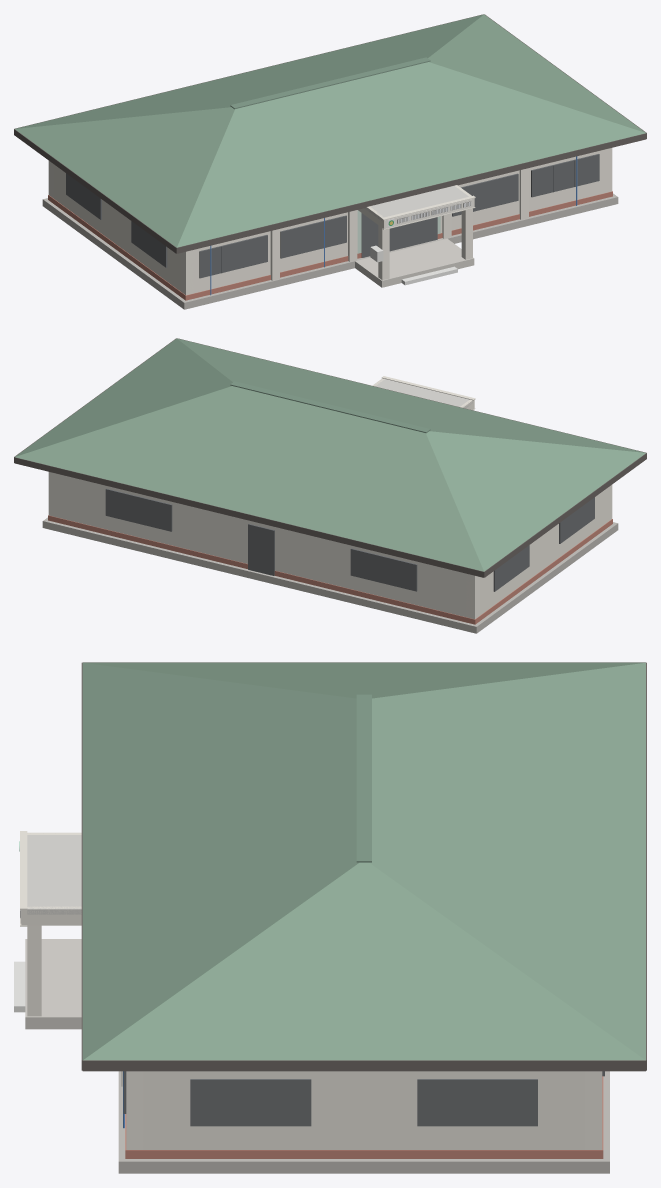
The model's file is raed_building.glb.
The picture shows the model from 3 angles, top to bottom: view 1: azimuth 30°, elevation 25°; view 2: azimuth 150°, elevation 25°; view 3: azimuth 270°, elevation 25°; orthographic projection. The views are drawn at different scales.
Visible parts, largest first — view 1: RAED_Roof, Mesh_Mat_RAED_Frame, RAED_Main_Masonry, Mesh_Mat_RAED_Fascia, RAED_Plinth_Base, Mesh_Mat_RAED_Pilaster, RAED_Porch_Landing, Mesh_Mat_RAED_PlinthSkirt, RAED_Canopy_RoofSlab, RAED_RidgeCap_Main, Mesh_Mat_RAED_CanopyFascia, RAED_Sign_Faceplate; view 2: RAED_Roof, RAED_Main_Masonry, Mesh_Mat_RAED_Frame, RAED_Plinth_Base, Mesh_Mat_RAED_Fascia, Mesh_Mat_RAED_PlinthSkirt, RAED_RidgeCap_Main, RAED_Canopy_RoofSlab, Mesh_Mat_RAED_CanopyFascia; view 3: RAED_Roof, RAED_Main_Masonry, Mesh_Mat_RAED_Frame, Mesh_Mat_RAED_Fascia, RAED_Plinth_Base, Mesh_Mat_RAED_PlinthSkirt, RAED_Canopy_RoofSlab, Mesh_Mat_RAED_Pilaster, RAED_Porch_Landing, RAED_RidgeCap_Main, Mesh_Mat_RAED_CanopyFascia.
Boxes of the visible parts, left/top/right/bottom form: RAED_Roof: left=15, top=14, right=645, bottom=247; Mesh_Mat_RAED_Frame: left=66, top=154, right=599, bottom=278; RAED_Main_Masonry: left=48, top=148, right=612, bottom=294; Mesh_Mat_RAED_Fascia: left=14, top=14, right=646, bottom=253; RAED_Plinth_Base: left=42, top=193, right=618, bottom=309; Mesh_Mat_RAED_Pilaster: left=48, top=161, right=528, bottom=295; RAED_Porch_Landing: left=355, top=238, right=474, bottom=287; Mesh_Mat_RAED_PlinthSkirt: left=48, top=191, right=612, bottom=300; RAED_Canopy_RoofSlab: left=364, top=186, right=468, bottom=220; RAED_RidgeCap_Main: left=230, top=57, right=430, bottom=109; Mesh_Mat_RAED_CanopyFascia: left=358, top=185, right=475, bottom=229; RAED_Sign_Faceplate: left=385, top=198, right=473, bottom=228; RAED_Roof: left=15, top=338, right=645, bottom=571; RAED_Main_Masonry: left=48, top=472, right=611, bottom=619; Mesh_Mat_RAED_Frame: left=105, top=488, right=594, bottom=591; RAED_Plinth_Base: left=42, top=517, right=618, bottom=633; Mesh_Mat_RAED_Fascia: left=14, top=338, right=646, bottom=577; Mesh_Mat_RAED_PlinthSkirt: left=48, top=515, right=612, bottom=624; RAED_RidgeCap_Main: left=230, top=381, right=430, bottom=433; RAED_Canopy_RoofSlab: left=374, top=379, right=472, bottom=408; Mesh_Mat_RAED_CanopyFascia: left=372, top=376, right=475, bottom=410; RAED_Roof: left=82, top=662, right=645, bottom=1060; RAED_Main_Masonry: left=126, top=1071, right=602, bottom=1149; Mesh_Mat_RAED_Frame: left=123, top=1071, right=604, bottom=1126; Mesh_Mat_RAED_Fascia: left=81, top=662, right=646, bottom=1071; RAED_Plinth_Base: left=118, top=1071, right=609, bottom=1173; Mesh_Mat_RAED_PlinthSkirt: left=125, top=1076, right=603, bottom=1158; RAED_Canopy_RoofSlab: left=27, top=835, right=81, bottom=914; Mesh_Mat_RAED_Pilaster: left=27, top=925, right=602, bottom=1149; RAED_Porch_Landing: left=25, top=939, right=81, bottom=1029; RAED_RidgeCap_Main: left=356, top=694, right=371, bottom=862; Mesh_Mat_RAED_CanopyFascia: left=20, top=831, right=81, bottom=926.
Size of the model in its own units: 24.96 by 6.2 by 16.75.
